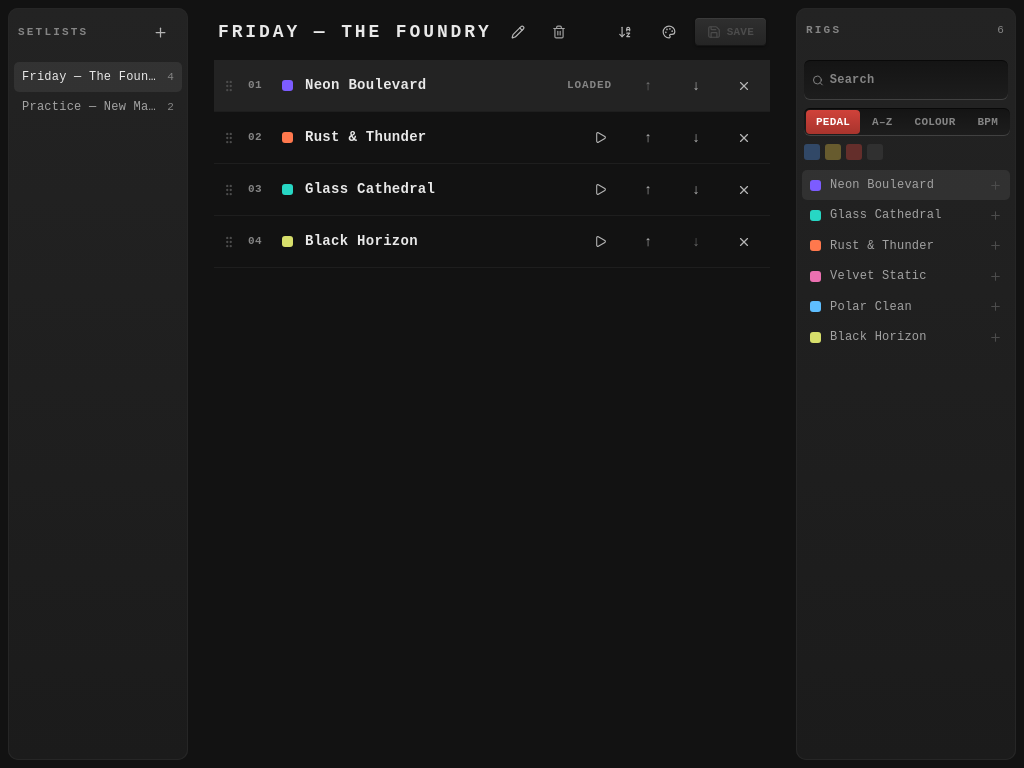
Test: LIBRARY · SETLISTS organizer › loads a setlist rig to hear it, the loaded one marked
Expected: the list item "01 Neon Boulevard LOADED ↑ ↓" is shown, [214,60,770,112]
What coordinates should you click on to do the following:
click the button named "Load Black Horizon"
I would click on:
 (600, 242)
Its box is [582,224,618,260].
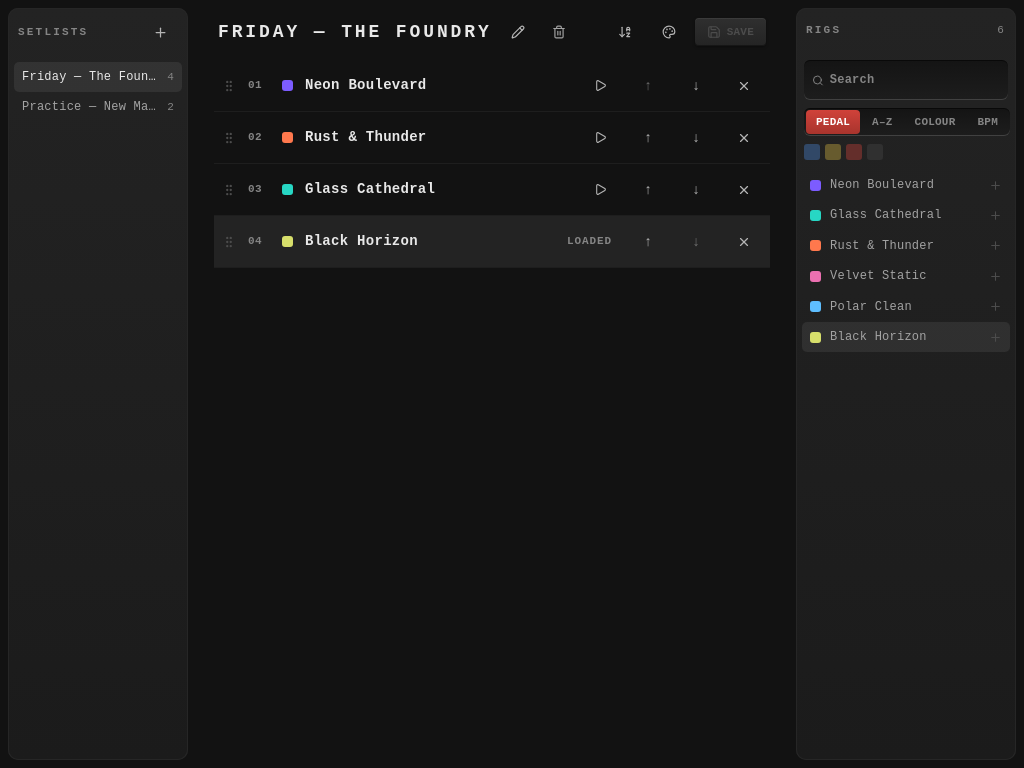
Expected: the list item "04 Black Horizon LOADED ↑ ↓" is shown, [214,216,770,268]
